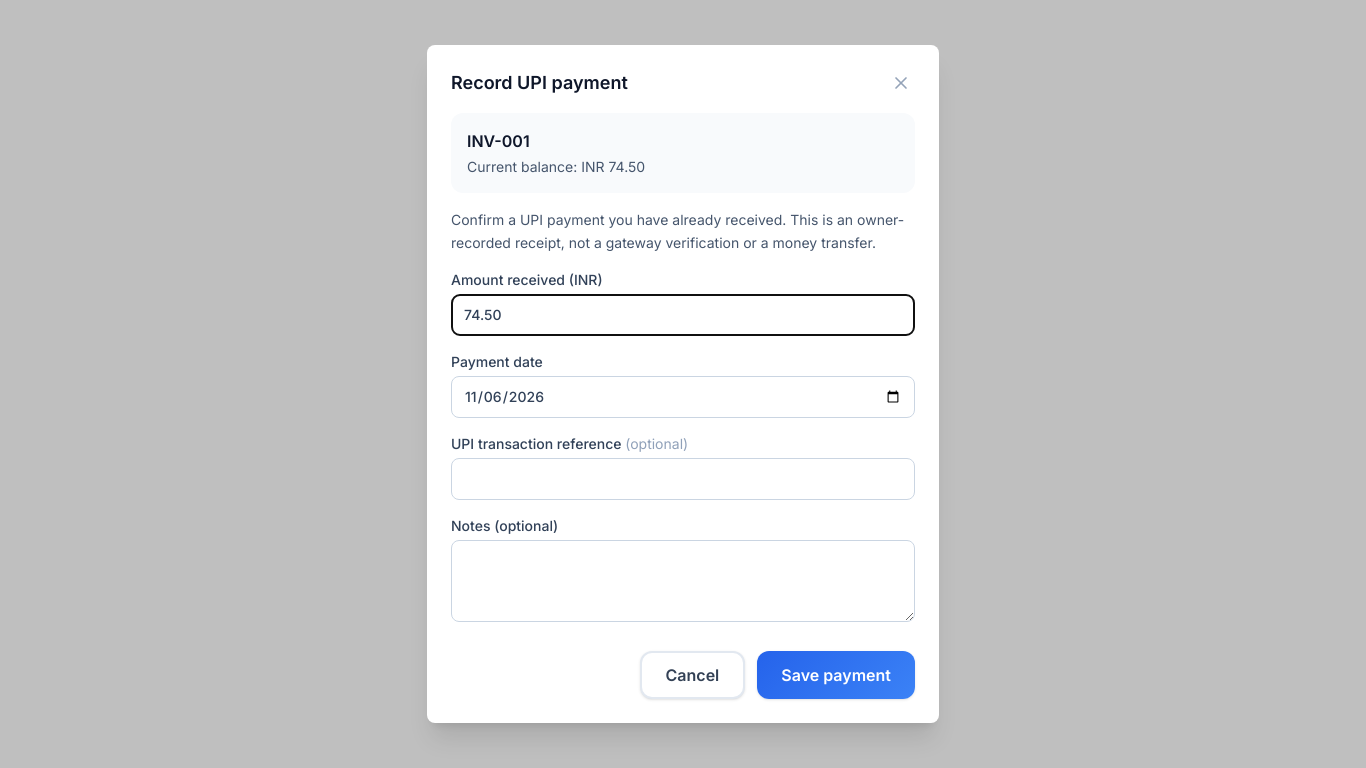
Test case: Payment forms › rejects invalid INR input
Clear the field labelled "Amount received (INR)": (683, 315) [451,294,915,336]
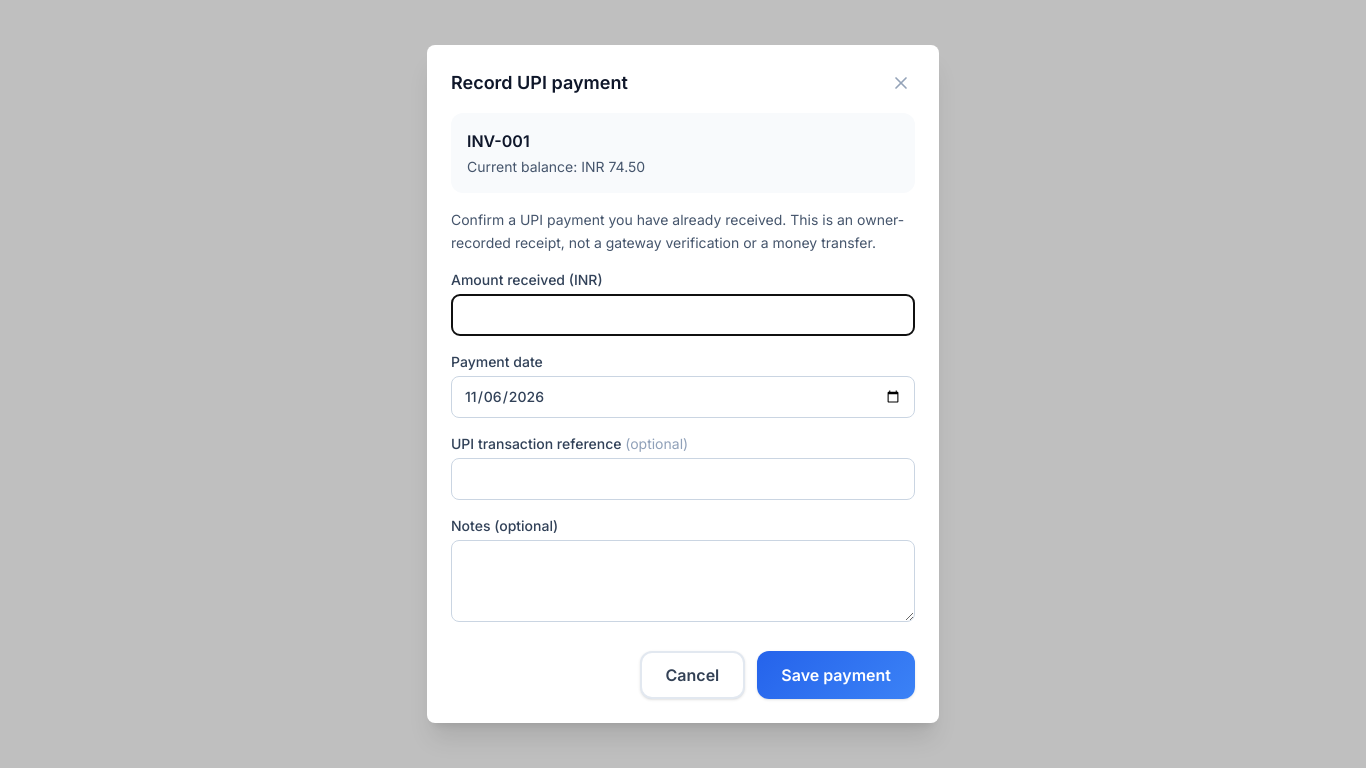
Click the button "Save payment": click(836, 675) [757,651,915,699]
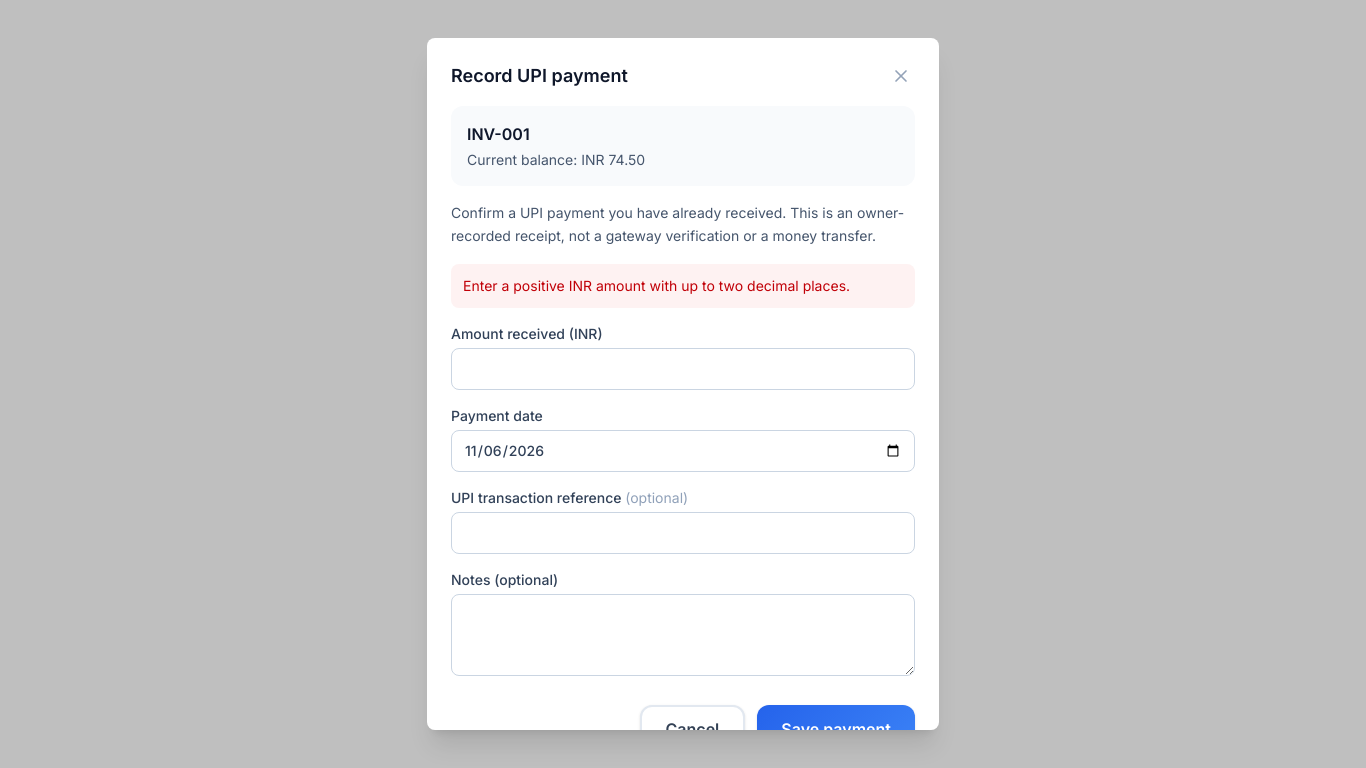
Now the message shows "positive INR amount", box [463,277,850,294]
